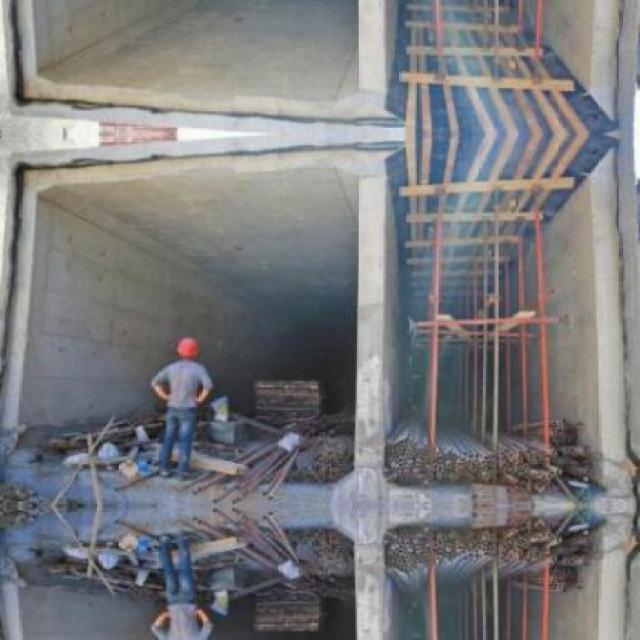con casco: (170, 334, 199, 372)
